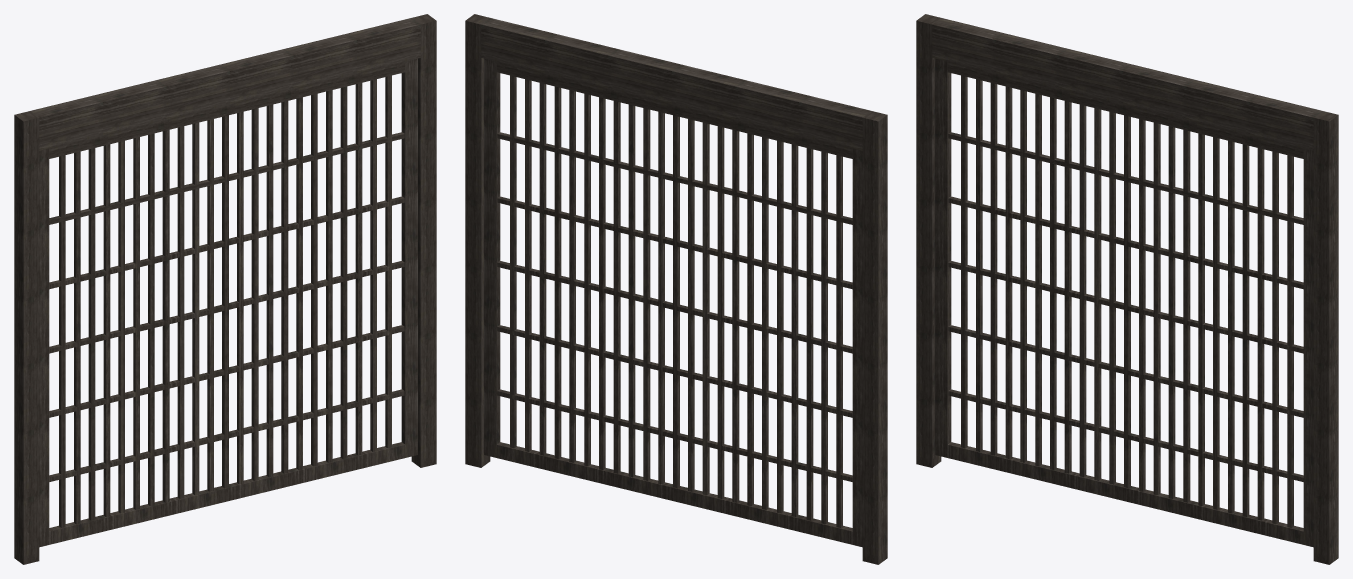
Rendered from EShosogoushi_h2000_blackebony.fbx.
3 renders of one model, left to right at view 1: azimuth 30°, elevation 25°; view 2: azimuth 150°, elevation 25°; view 3: azimuth 330°, elevation 25°, orthographic.
Visible parts, largest first — view 1: EShosogoushi_h2000_blackebony; view 2: EShosogoushi_h2000_blackebony; view 3: EShosogoushi_h2000_blackebony.
Boxes of the visible parts, x1,y1,x2,y2 form: EShosogoushi_h2000_blackebony: (14, 14, 436, 564); EShosogoushi_h2000_blackebony: (465, 14, 887, 564); EShosogoushi_h2000_blackebony: (916, 14, 1338, 564).
Bounding box in the file's own units: 195 × 200 × 7.5.
Materials: 1 (1 with a texture image).
